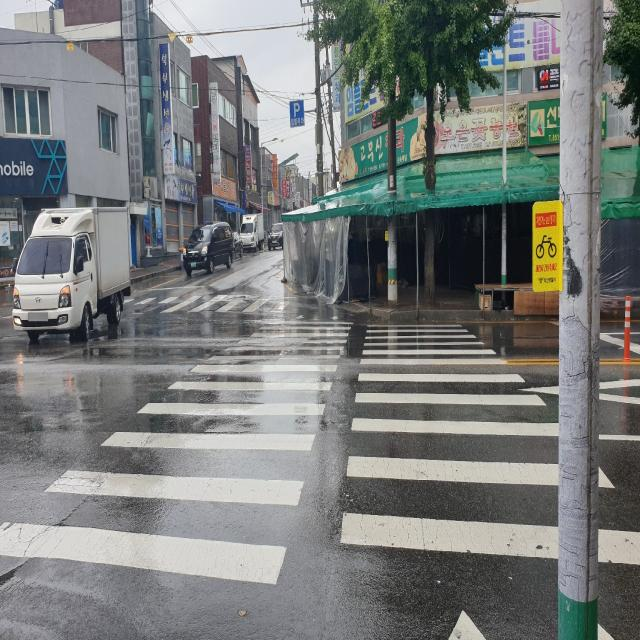횡단보도: (0, 310, 640, 640), (121, 286, 278, 318)
